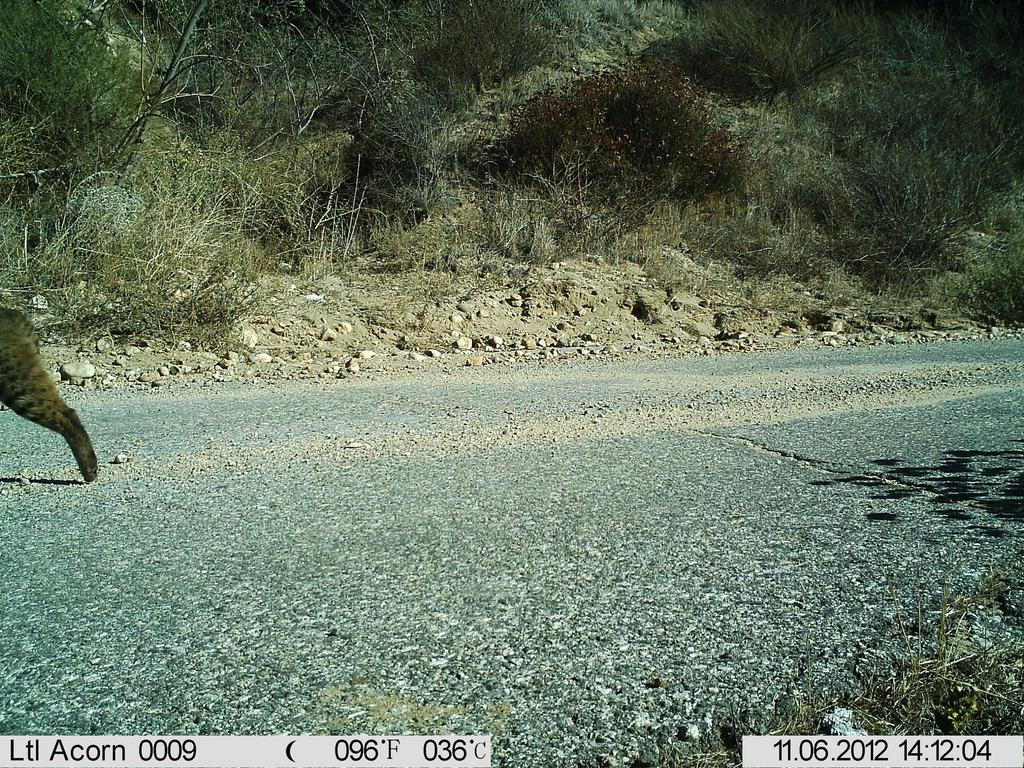bobcat: (1, 286, 121, 502)
